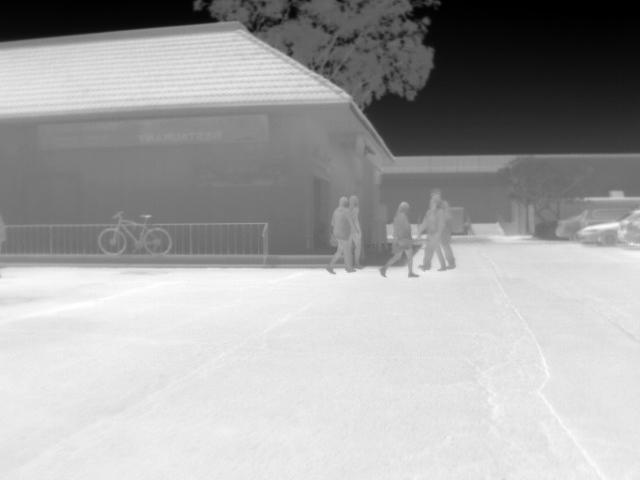car: (575, 209, 640, 245), (580, 206, 634, 231), (620, 213, 640, 247), (556, 217, 580, 239)
person: (377, 200, 421, 278), (325, 194, 357, 273), (429, 186, 461, 265), (419, 197, 452, 271), (349, 194, 365, 268)
